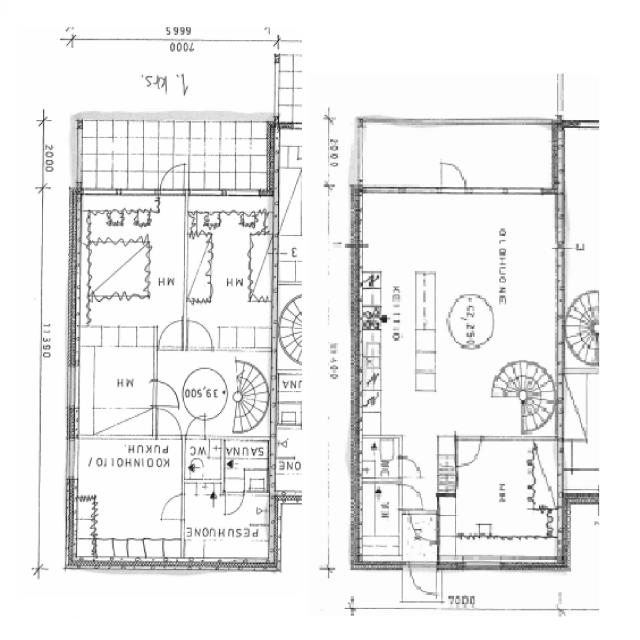door: (160, 409, 210, 439), (407, 559, 441, 598), (156, 161, 191, 198), (404, 509, 439, 546), (183, 316, 215, 353), (437, 157, 469, 194), (151, 390, 182, 426), (454, 433, 484, 470), (156, 316, 186, 353), (156, 489, 186, 525), (154, 405, 183, 439), (150, 376, 180, 408), (396, 481, 426, 511), (222, 488, 246, 518), (396, 454, 423, 480), (184, 414, 208, 440)
window: (468, 182, 549, 200), (359, 178, 438, 194), (88, 186, 161, 203), (62, 359, 82, 414), (62, 432, 82, 485), (217, 186, 267, 201), (482, 431, 529, 444)
zone: (354, 187, 560, 436), (76, 193, 186, 343), (438, 437, 564, 566), (67, 437, 186, 562), (183, 193, 275, 347), (70, 327, 156, 439), (182, 484, 275, 568), (356, 478, 402, 564), (223, 436, 272, 492), (182, 364, 228, 422), (564, 298, 601, 369), (358, 434, 405, 481), (273, 424, 304, 494), (184, 435, 224, 485), (407, 510, 439, 544)
